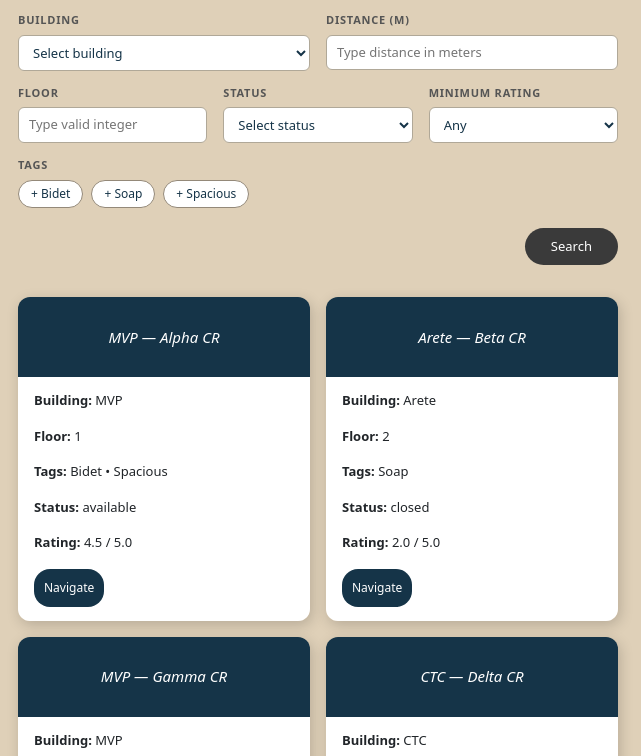
Scenario: CR Search filters › filters by building
This screenshot has width=641, height=756.
Select "MVP" in the dropdown showing "Select building" below "Distance (m)": coordinates (164, 52) [18, 34, 310, 70]
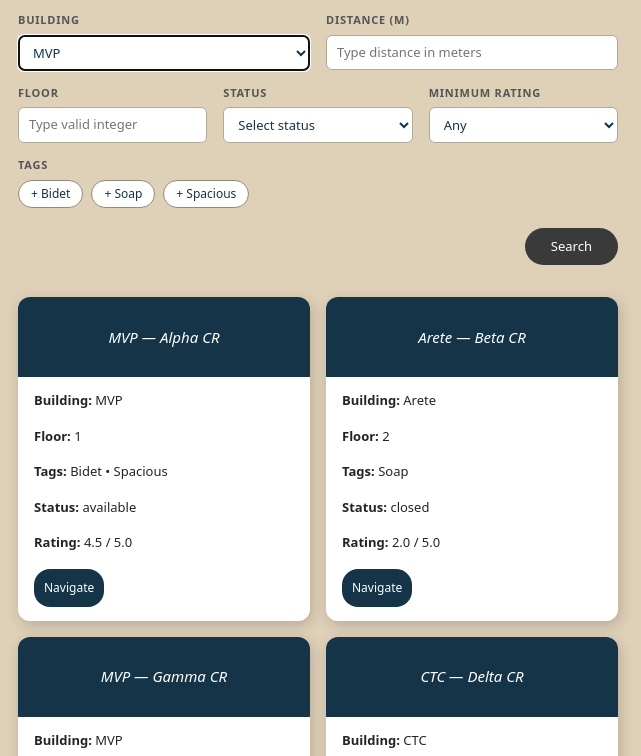
Click the button "Search": coordinates (571, 246) [525, 228, 618, 265]
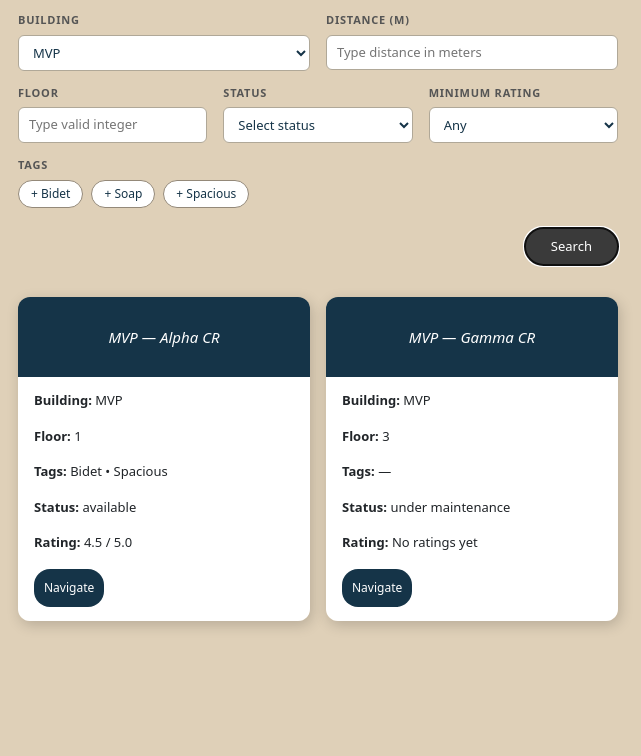
Check: the link "Arete — Beta CR" is gone
Check: the link "CTC — Delta CR" is gone
